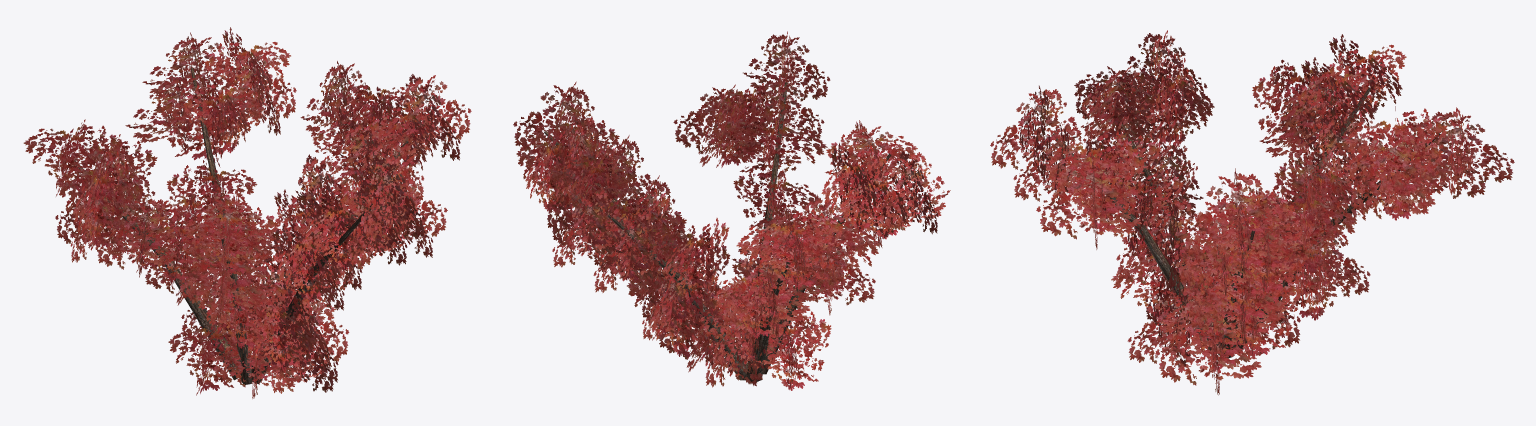
Rendered from bush_3d_01_red_lod1.glb.
3 views of the same model, side by side, from view 1: azimuth 30°, elevation 25°; view 2: azimuth 150°, elevation 25°; view 3: azimuth 270°, elevation 25° (orthographic). The views are drawn at different scales.
Visible parts, largest first — view 1: foliage_cards, wood_geometry; view 2: foliage_cards, wood_geometry; view 3: foliage_cards, wood_geometry.
Part boxes in pixels (bbox=[...]): foliage_cards: bbox=[23, 27, 471, 398]; wood_geometry: bbox=[74, 67, 430, 384]; foliage_cards: bbox=[513, 31, 950, 390]; wood_geometry: bbox=[544, 82, 891, 381]; foliage_cards: bbox=[990, 30, 1514, 395]; wood_geometry: bbox=[1051, 87, 1440, 358].
Size of the model in its own units: 2 by 1.29 by 2.12.
2 materials, 2 textured.
